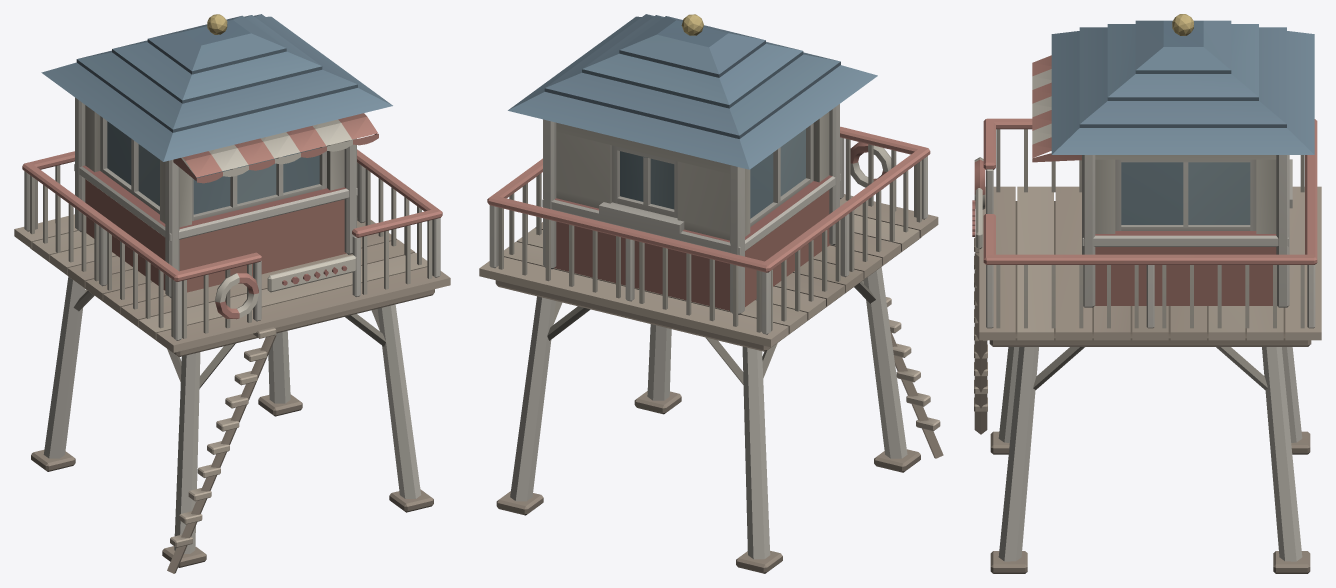
Rendered from tower.glb.
3 renders of one model, left to right at view 1: azimuth 30°, elevation 25°; view 2: azimuth 150°, elevation 25°; view 3: azimuth 270°, elevation 25°, orthographic. The views are drawn at different scales.
Size of the model in its own units: 3.98 by 6.18 by 3.96.
